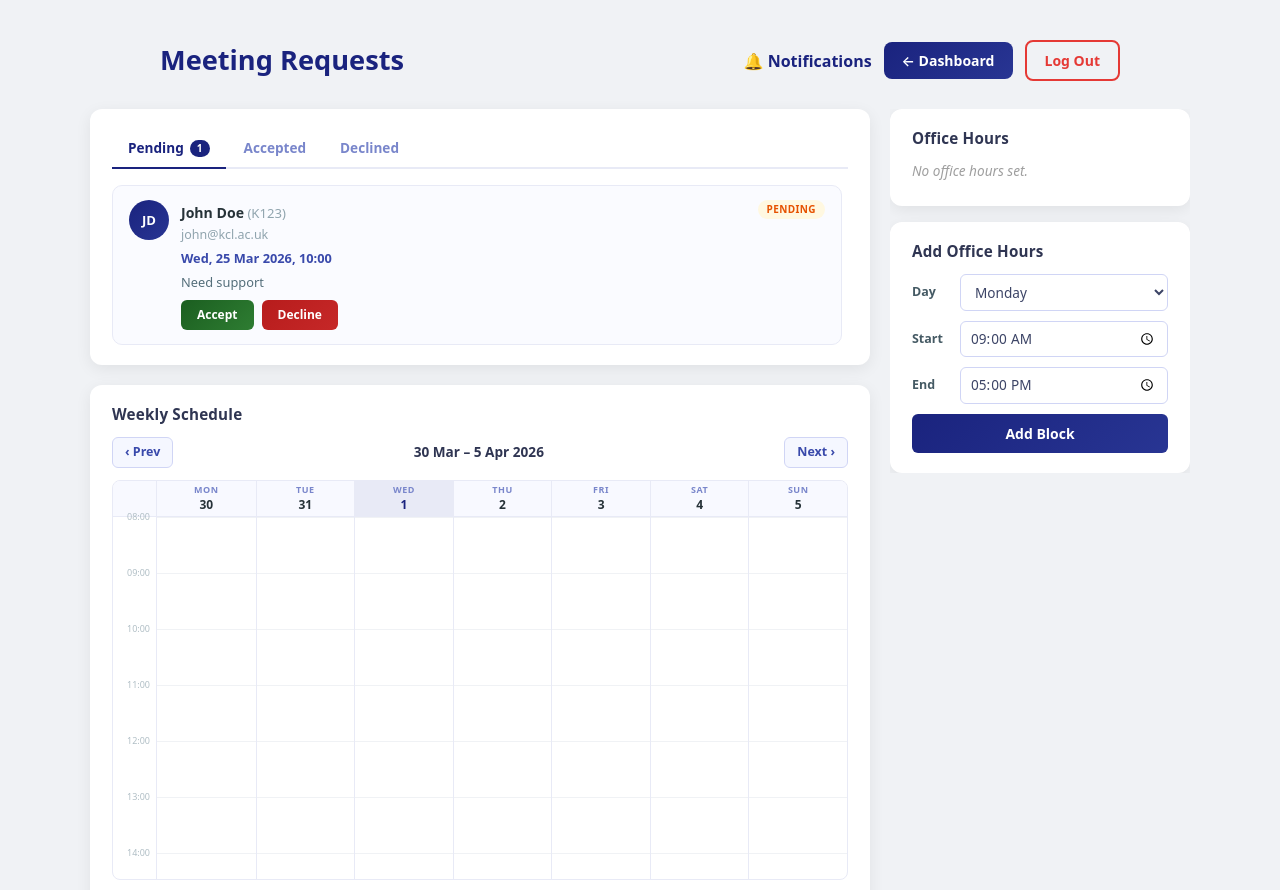
Test: StaffMeetingRequestsPage › deny failure rolls back and shows error
Expected: the text "John Doe" is shown, [181,203,244,222]
Click the button "Decline" at coordinates (300, 315), box [262,300,338,330]
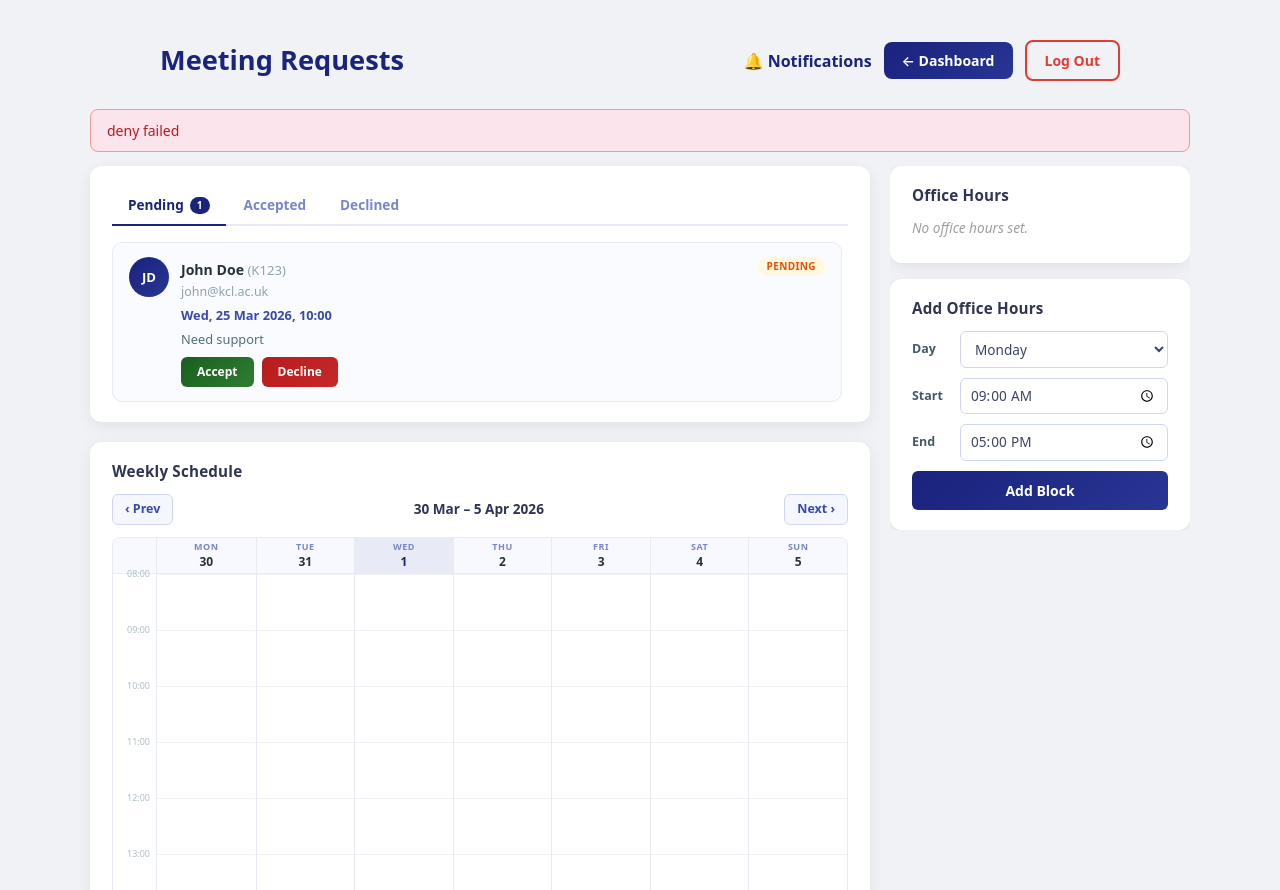
Expected: the text "deny failed" is shown, [90,109,1190,152]
